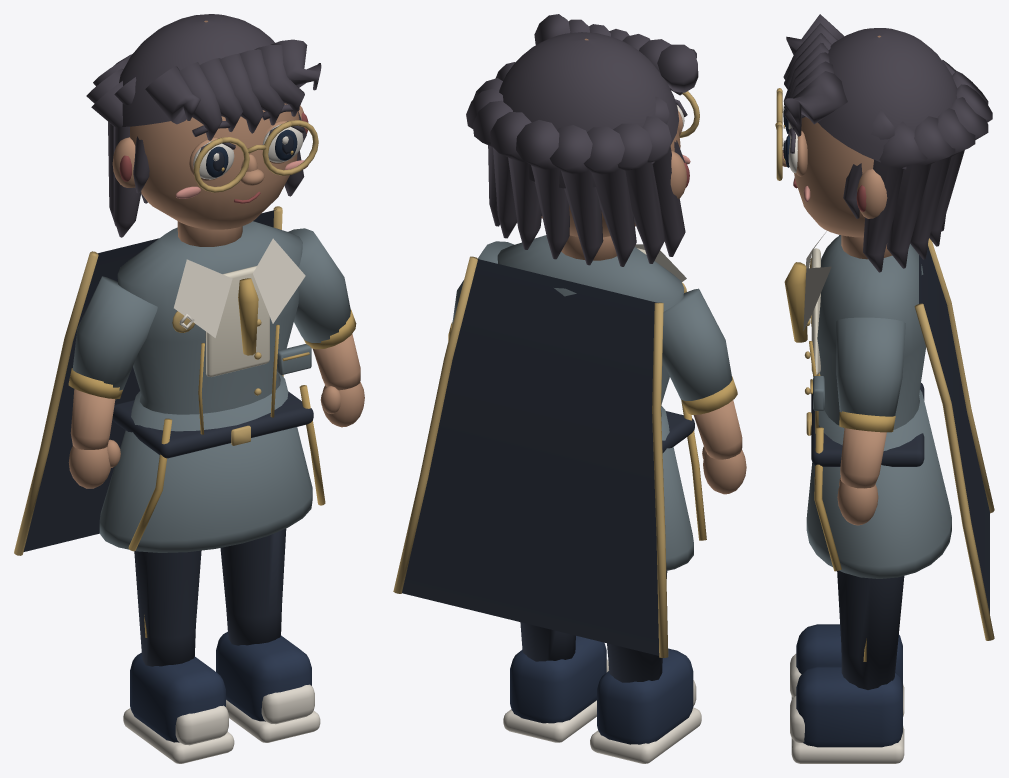
File: xingyin-characters-v1__elite_iron_engineer.glb
3 renders of one model, left to right at view 1: azimuth 30°, elevation 25°; view 2: azimuth 150°, elevation 25°; view 3: azimuth 270°, elevation 25°, orthographic.
Visible parts, largest first — view 1: figure.022; view 2: figure.022; view 3: figure.022.
Part boxes in pixels (x1=…): figure.022: x1=14, y1=14, x2=364, y2=763; figure.022: x1=393, y1=14, x2=746, y2=763; figure.022: x1=775, y1=14, x2=994, y2=763.
Size of the model in its own units: 1.15 by 2.63 by 0.7529.
